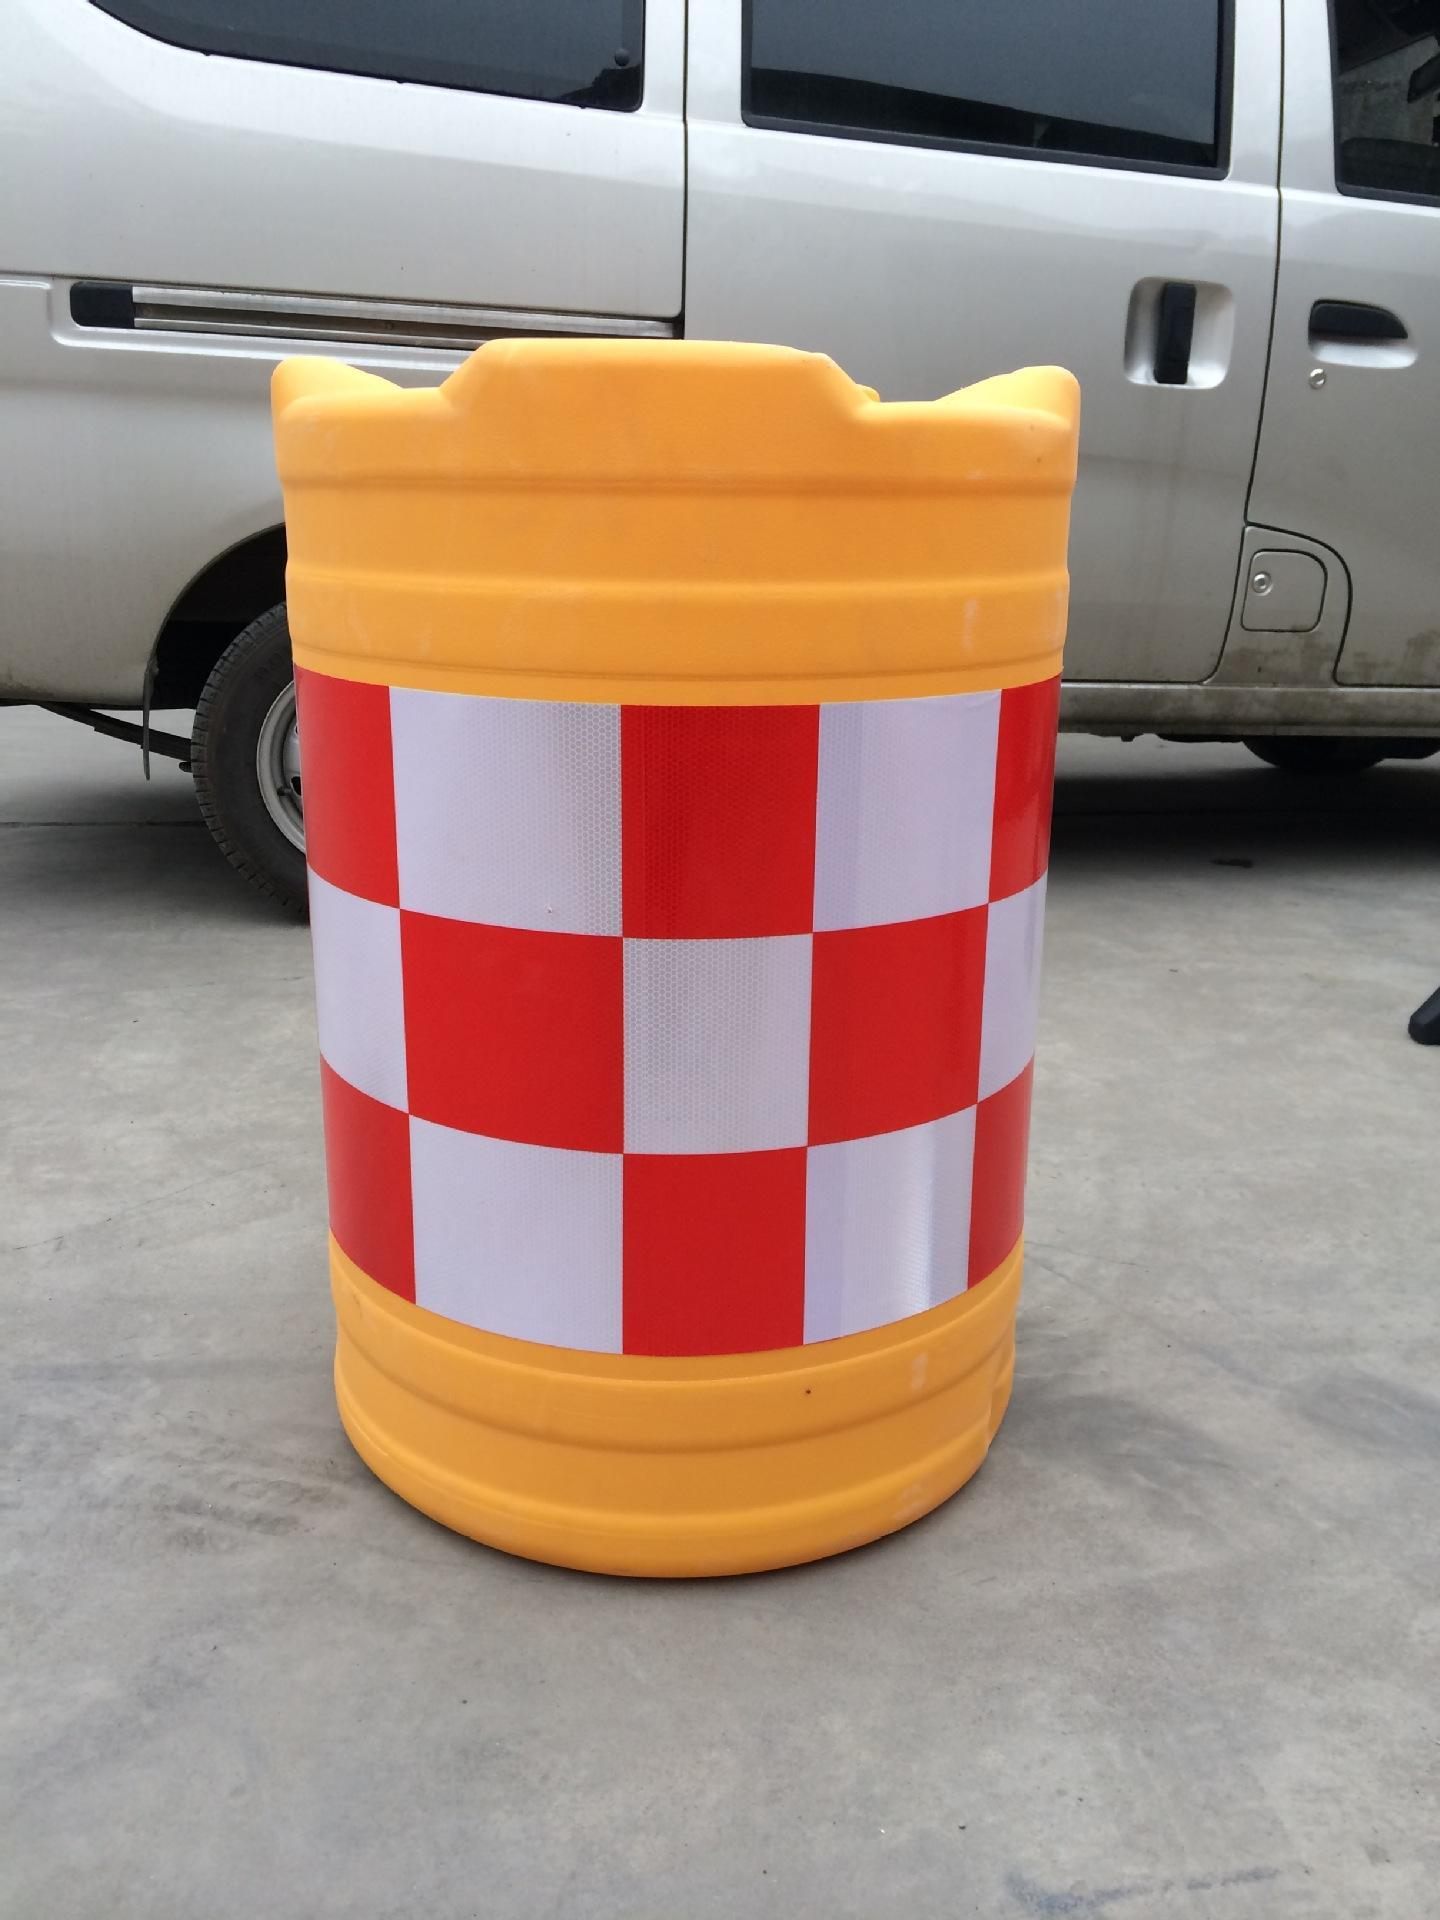sign: (265, 336, 1118, 1603)
